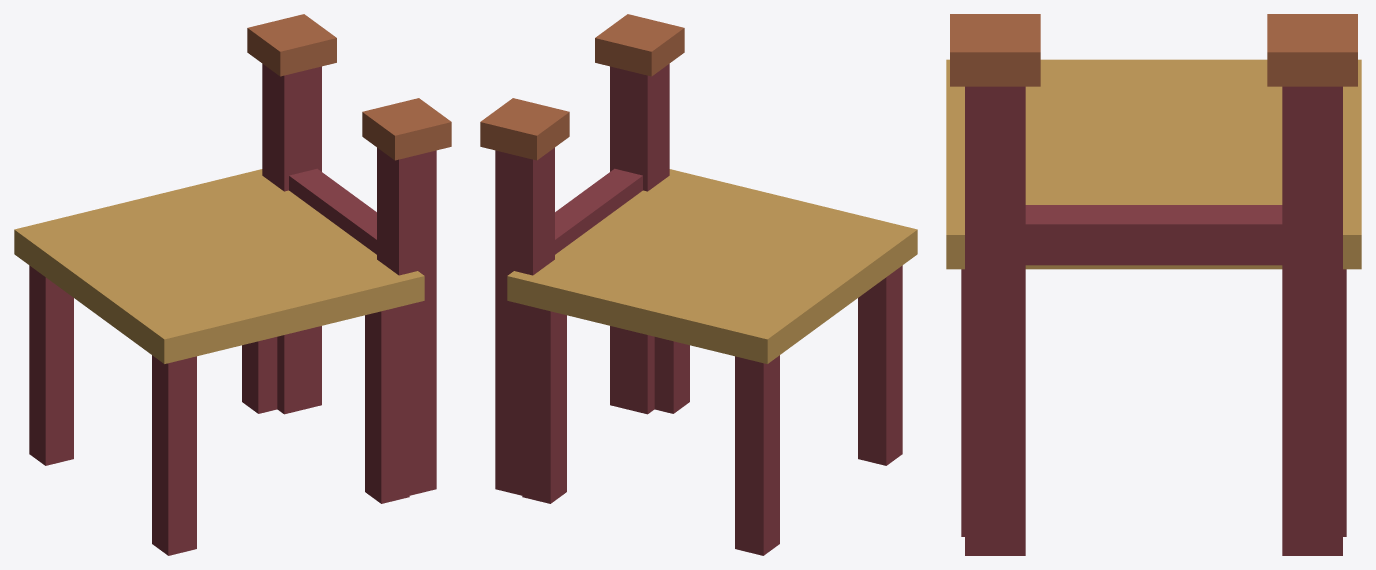
File: stand.glb
The picture shows the model from 3 angles, left to right: view 1: azimuth 30°, elevation 25°; view 2: azimuth 150°, elevation 25°; view 3: azimuth 270°, elevation 25°; orthographic projection. The views are drawn at different scales.
Visible parts, largest first — view 1: Deck, PostR, PostL, Leg1, Leg3, Leg0, CapR, CapL, Bar, Leg2; view 2: Deck, PostL, PostR, Leg0, Leg2, Leg1, CapL, CapR, Bar, Leg3; view 3: Deck, PostL, PostR, Bar, CapL, CapR, Leg2, Leg3.
Boxes of the visible parts, x1=… form: Deck: x1=14, y1=169, x2=424, y2=363; PostR: x1=377, y1=147, x2=436, y2=495; PostL: x1=262, y1=64, x2=321, y2=414; Leg1: x1=152, y1=355, x2=196, y2=555; Leg3: x1=365, y1=304, x2=409, y2=503; Leg0: x1=29, y1=265, x2=73, y2=465; CapR: x1=362, y1=98, x2=451, y2=160; CapL: x1=247, y1=14, x2=336, y2=76; Bar: x1=289, y1=168, x2=376, y2=254; Leg2: x1=242, y1=337, x2=277, y2=413; Deck: x1=507, y1=169, x2=917, y2=363; PostL: x1=495, y1=147, x2=554, y2=495; PostR: x1=610, y1=64, x2=669, y2=414; Leg0: x1=735, y1=355, x2=779, y2=555; Leg2: x1=522, y1=304, x2=566, y2=503; Leg1: x1=858, y1=265, x2=902, y2=465; CapL: x1=480, y1=98, x2=569, y2=160; CapR: x1=595, y1=14, x2=684, y2=76; Bar: x1=555, y1=168, x2=642, y2=254; Leg3: x1=654, y1=337, x2=689, y2=413; Deck: x1=946, y1=59, x2=1361, y2=269; PostL: x1=1282, y1=86, x2=1342, y2=555; PostR: x1=965, y1=86, x2=1025, y2=555; Bar: x1=1025, y1=205, x2=1282, y2=265; CapL: x1=1267, y1=14, x2=1357, y2=86; CapR: x1=950, y1=14, x2=1040, y2=86; Leg2: x1=1343, y1=269, x2=1346, y2=536; Leg3: x1=961, y1=269, x2=964, y2=536.
Bounding box in the file's own units: 1.22 × 1.49 × 1.1.
